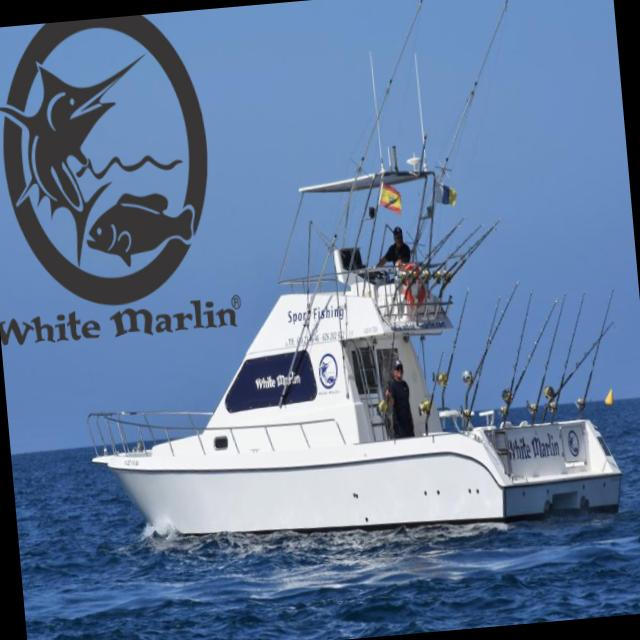boat: (37, 0, 640, 615)
